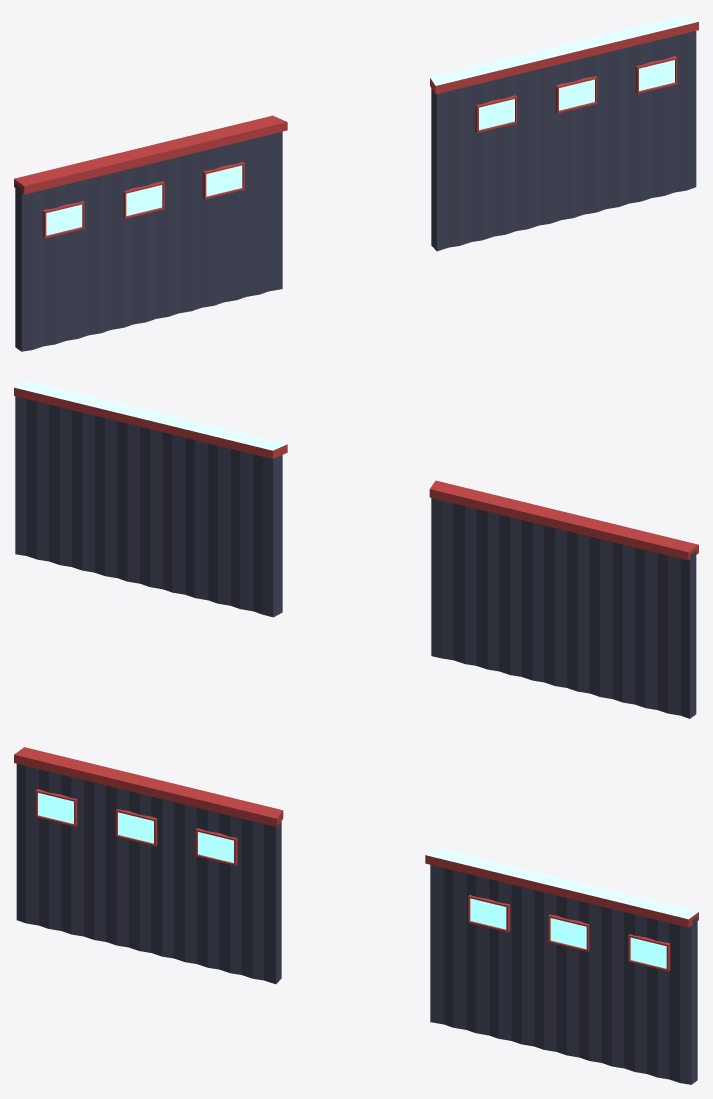
The model's file is whLarge.fbx.
3 renders of one model, top to bottom at view 1: azimuth 30°, elevation 25°; view 2: azimuth 150°, elevation 25°; view 3: azimuth 330°, elevation 25°, orthographic.
Visible parts, largest first — view 1: WarehouseAntiBigWall.002, WarehouseBigWall.003; view 2: WarehouseBigWall.003, WarehouseAntiBigWall.002; view 3: WarehouseBigWall.003, WarehouseAntiBigWall.002.
Boxes of the visible parts, x1,y1,x2,y2 form: WarehouseAntiBigWall.002: (14,115,287,351); WarehouseBigWall.003: (430,14,698,251); WarehouseBigWall.003: (14,380,287,617); WarehouseAntiBigWall.002: (429,480,698,718); WarehouseBigWall.003: (425,848,698,1084); WarehouseAntiBigWall.002: (14,747,283,984).
Size of the model in its own units: 843 by 200 by 22.57.
